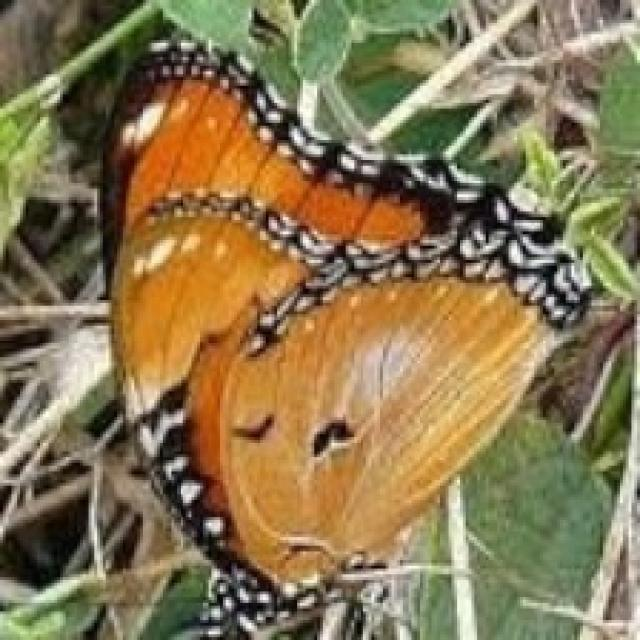butterfly: (91, 32, 623, 637)
